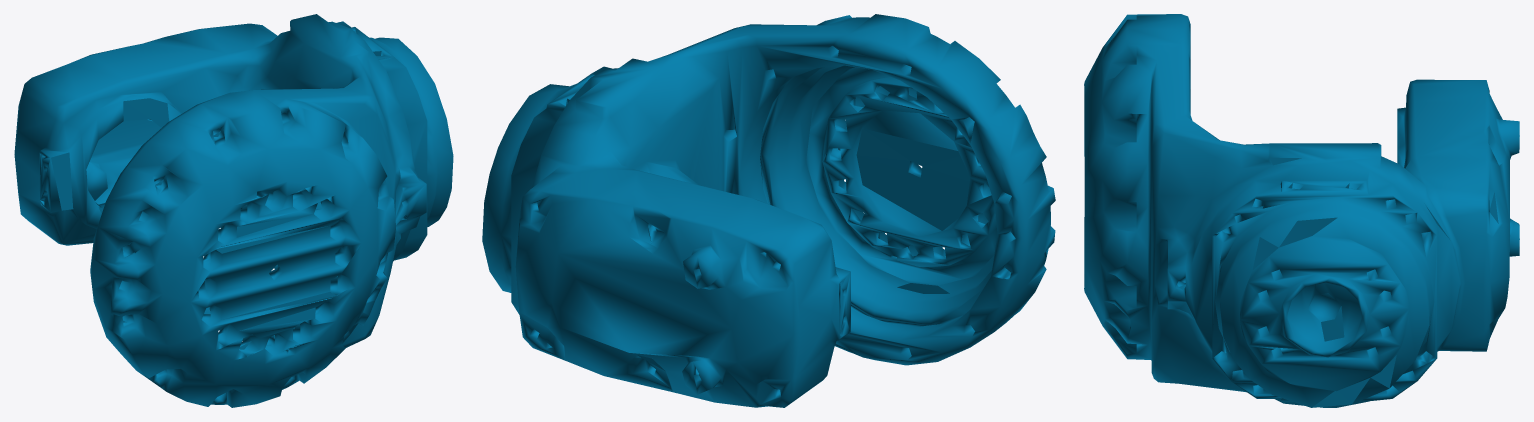
3 renders of one model, left to right at view 1: azimuth 30°, elevation 25°; view 2: azimuth 150°, elevation 25°; view 3: azimuth 270°, elevation 25°, orthographic. The views are drawn at different scales.
Visible parts, largest first — view 1: mh50-35_lk5; view 2: mh50-35_lk5; view 3: mh50-35_lk5.
Boxes of the visible parts, bbox=[...] form: mh50-35_lk5: bbox=[14, 14, 453, 407]; mh50-35_lk5: bbox=[482, 14, 1055, 407]; mh50-35_lk5: bbox=[1084, 14, 1519, 407].
Size of the model in its own units: 0.2553 by 0.2305 by 0.1834.
